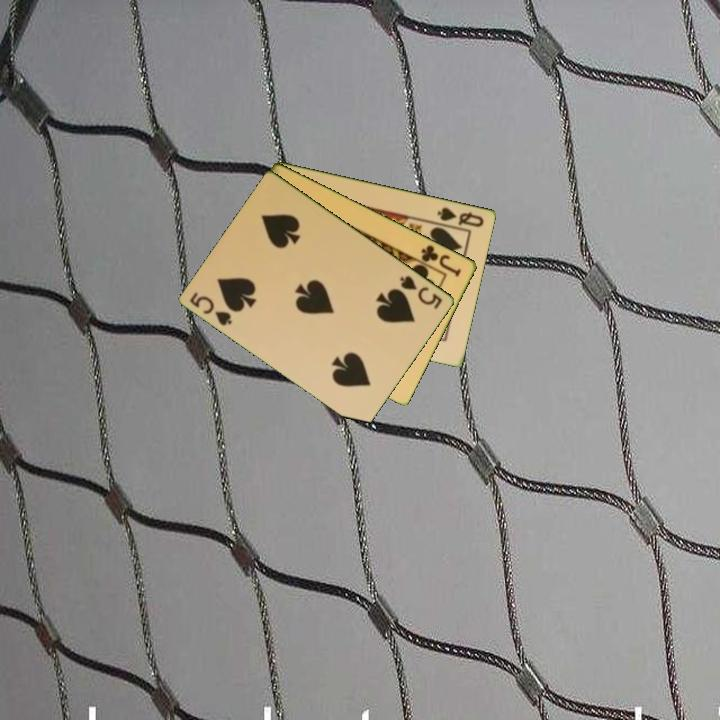5s: (187, 288, 235, 329), (396, 272, 445, 312)
Jc: (418, 241, 464, 280)
Qs: (434, 203, 487, 230)
